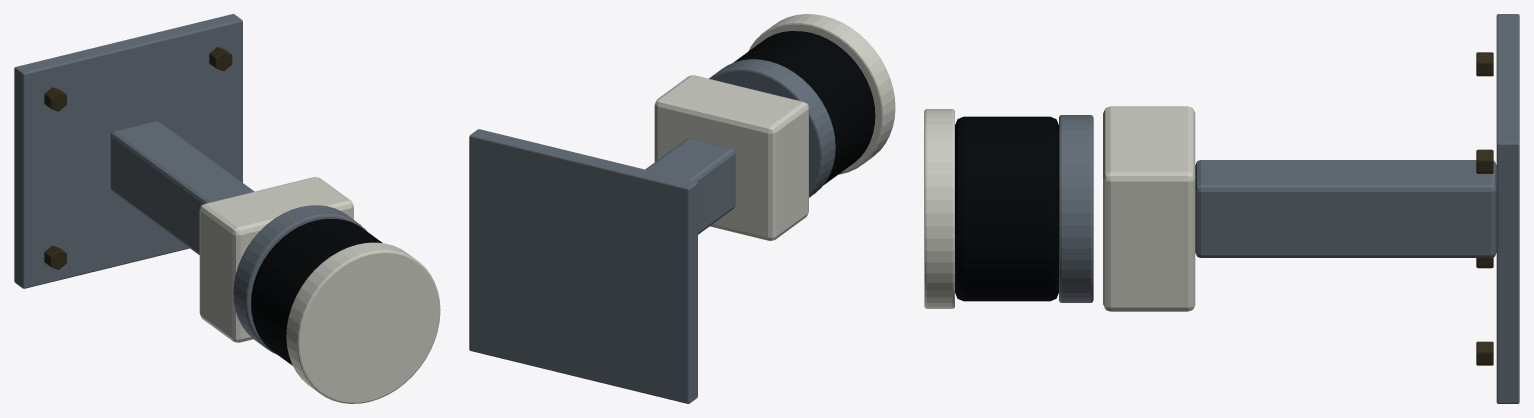
The model's file is lidar_2d.obj.
The picture shows the model from 3 angles, left to right: view 1: azimuth 30°, elevation 25°; view 2: azimuth 150°, elevation 25°; view 3: azimuth 270°, elevation 25°; orthographic projection. The views are drawn at different scales.
Parts seen in each view (by area): view 1: Deck_plate, Top_cap, Pedestal, Electronics, Optical_window, Lower_ring, Deck_bolt_3, Deck_bolt_1, Deck_bolt_0; view 2: Deck_plate, Electronics, Optical_window, Lower_ring, Top_cap, Pedestal; view 3: Pedestal, Optical_window, Electronics, Deck_plate, Lower_ring, Top_cap.
Part boxes in pixels (bbox=[...]): Deck_plate: bbox=[14, 14, 242, 288]; Top_cap: bbox=[286, 242, 440, 403]; Pedestal: bbox=[110, 121, 254, 254]; Electronics: bbox=[199, 177, 353, 342]; Optical_window: bbox=[251, 219, 382, 365]; Lower_ring: bbox=[233, 205, 366, 354]; Deck_bolt_3: bbox=[209, 47, 232, 70]; Deck_bolt_1: bbox=[44, 87, 66, 111]; Deck_bolt_0: bbox=[44, 245, 66, 269]; Deck_plate: bbox=[469, 129, 697, 403]; Electronics: bbox=[654, 75, 808, 240]; Optical_window: bbox=[733, 31, 875, 185]; Lower_ring: bbox=[709, 59, 835, 197]; Top_cap: bbox=[748, 14, 895, 174]; Pedestal: bbox=[645, 138, 735, 234]; Pedestal: bbox=[1195, 160, 1496, 257]; Optical_window: bbox=[955, 116, 1058, 301]; Electronics: bbox=[1103, 106, 1195, 311]; Deck_plate: bbox=[1496, 14, 1519, 403]; Lower_ring: bbox=[1059, 115, 1093, 302]; Top_cap: bbox=[924, 109, 954, 308].
Size of the model in its own units: 0.16 by 0.15 by 0.3096.
